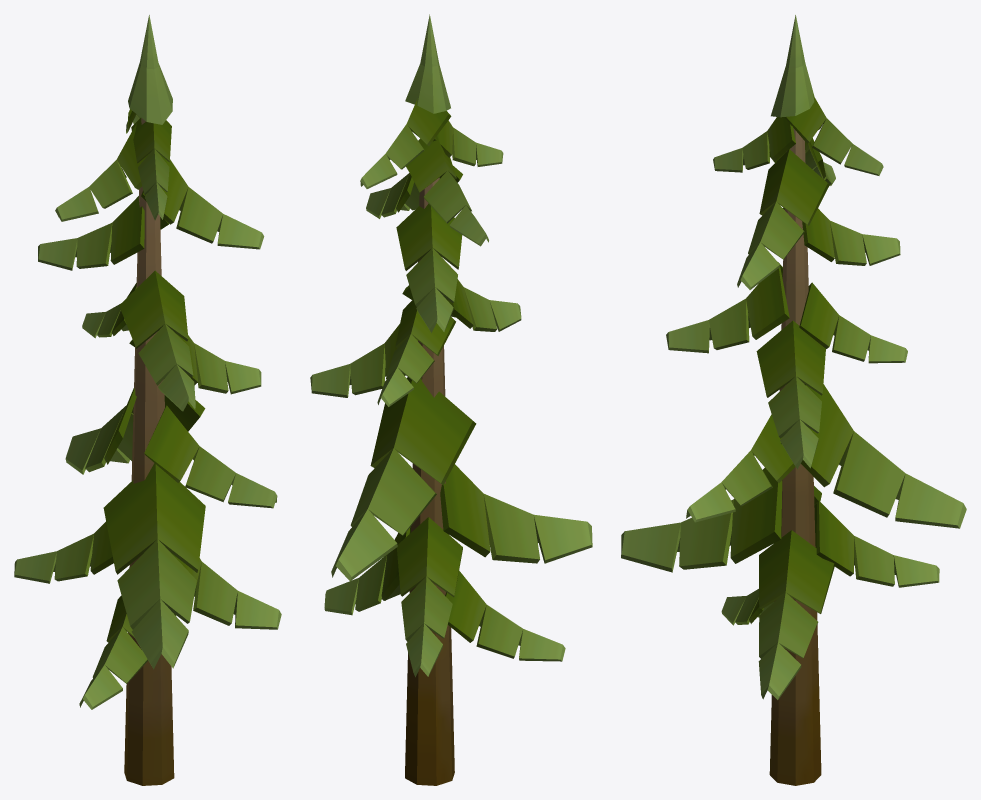
File: SM_Tree_B.glb
The picture shows the model from 3 angles, left to right: view 1: azimuth 30°, elevation 25°; view 2: azimuth 150°, elevation 25°; view 3: azimuth 270°, elevation 25°; orthographic projection.
Parts seen in each view (by area): view 1: SM_Tree_B; view 2: SM_Tree_B; view 3: SM_Tree_B.
Part boxes in pixels (left/top/right/bottom): SM_Tree_B: left=14, top=15, right=281, bottom=785; SM_Tree_B: left=310, top=14, right=592, bottom=785; SM_Tree_B: left=621, top=15, right=966, bottom=785.
Size of the model in its own units: 2.88 by 9.55 by 3.93.
1 material, 1 textured.
